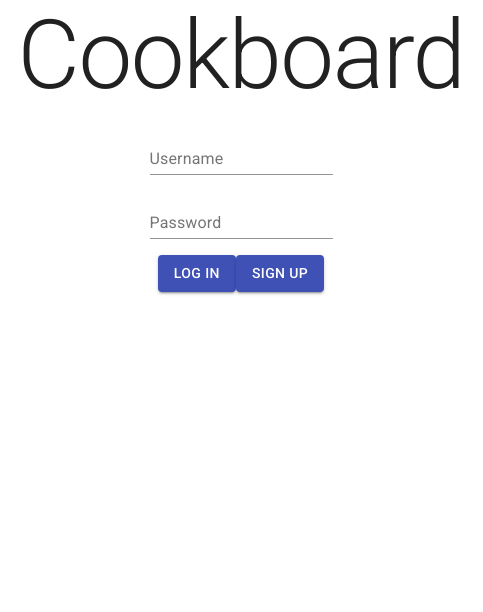
Test case: tests for LoginWindow. › With no user credentials stored › tests for signup › an error message is displayed if the email is cleared
The width and height of the screenshot is (483, 612).
Click the button with test id "buttonSignup": (280, 273) [236,255,324,292]
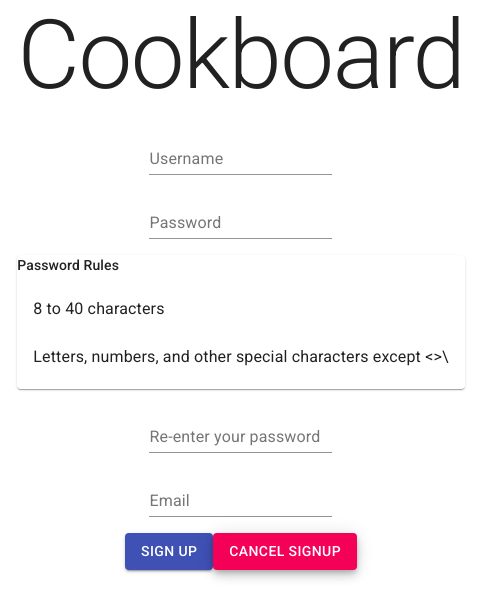
In the field with test id "inputEmail": (241, 501) [150,485,332,517], type "test@test.com"
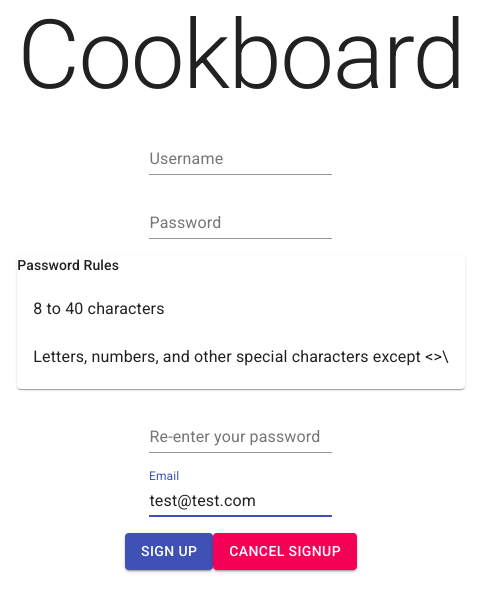
Clear the field with test id "inputEmail": (241, 501) [150,485,332,517]
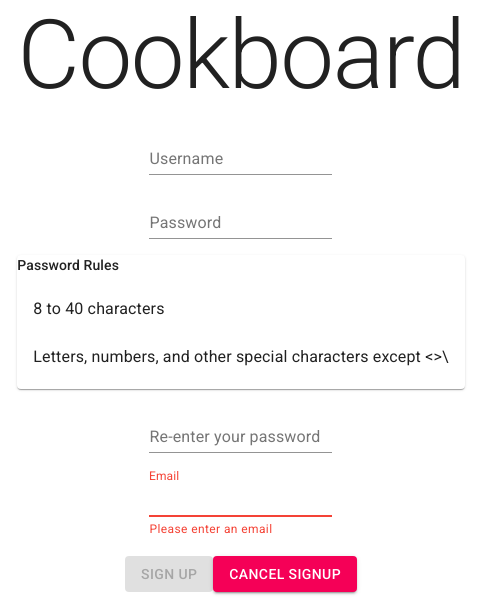
Check: the text "Please enter an email" is shown, box [150,522,272,536]
